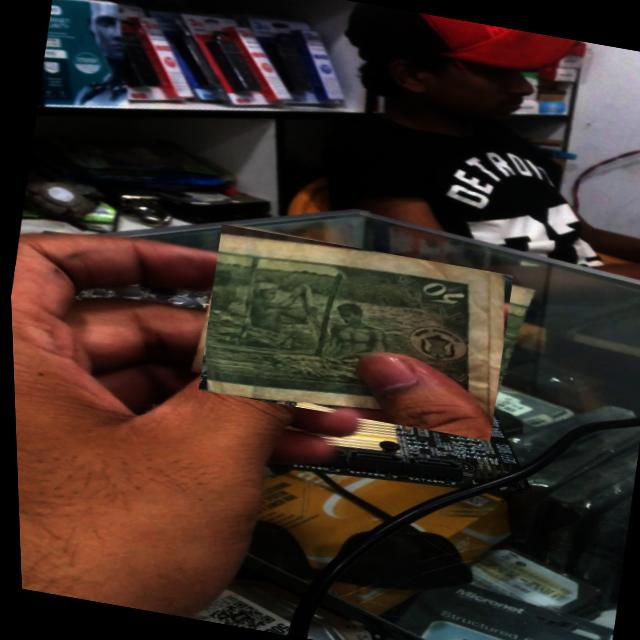Taka: (190, 224, 515, 441)
